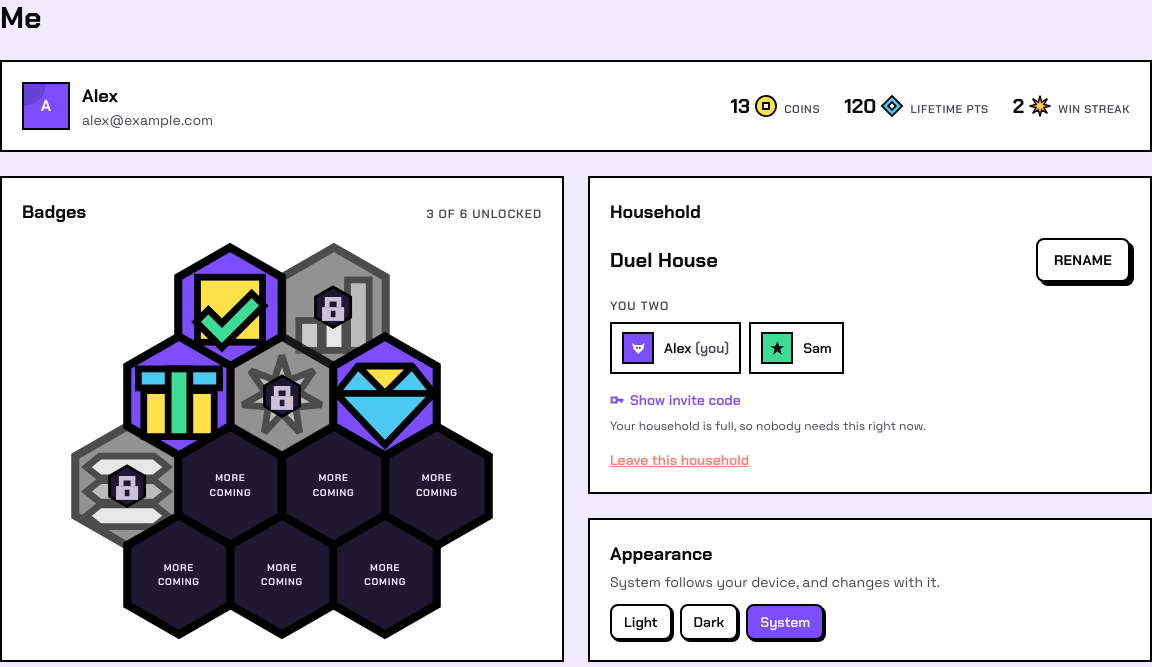
Test: household settings › tucks the invite code away once the household is full
The width and height of the screenshot is (1152, 667).
Expected: the text "Duel House" is shown, [610, 246, 718, 274]
Expected: the text "BNC4NN" is not shown
Click the button "Show invite code": coordinates (675, 400) [610, 390, 741, 410]
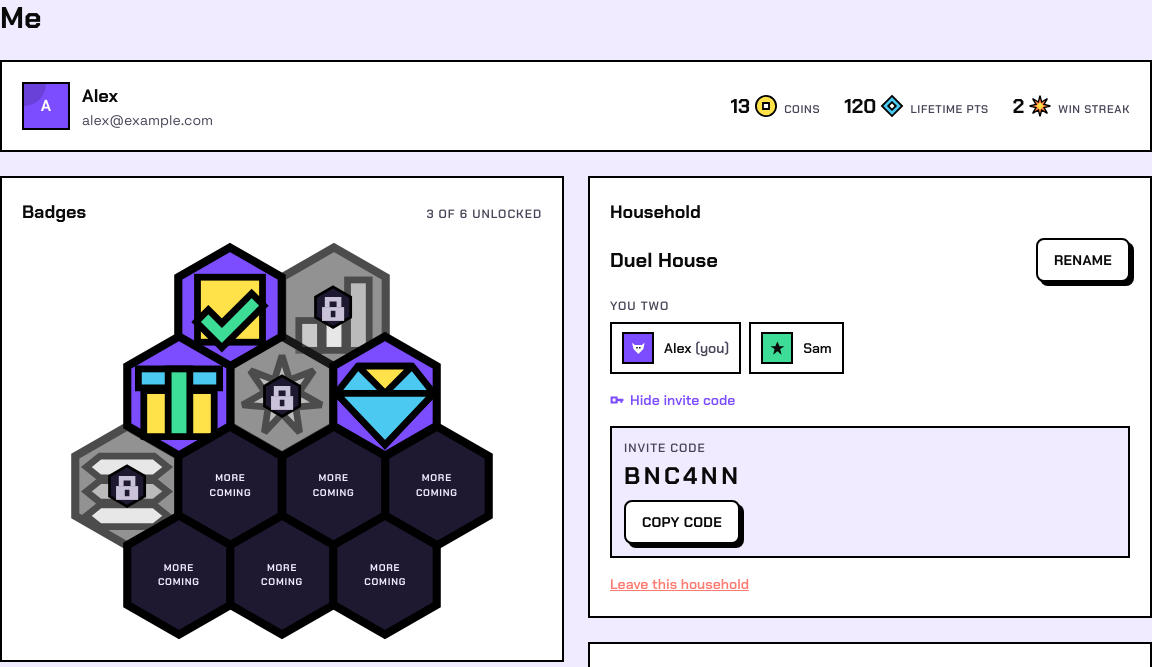
Expected: the text "BNC4NN" is shown, [624, 460, 742, 491]
